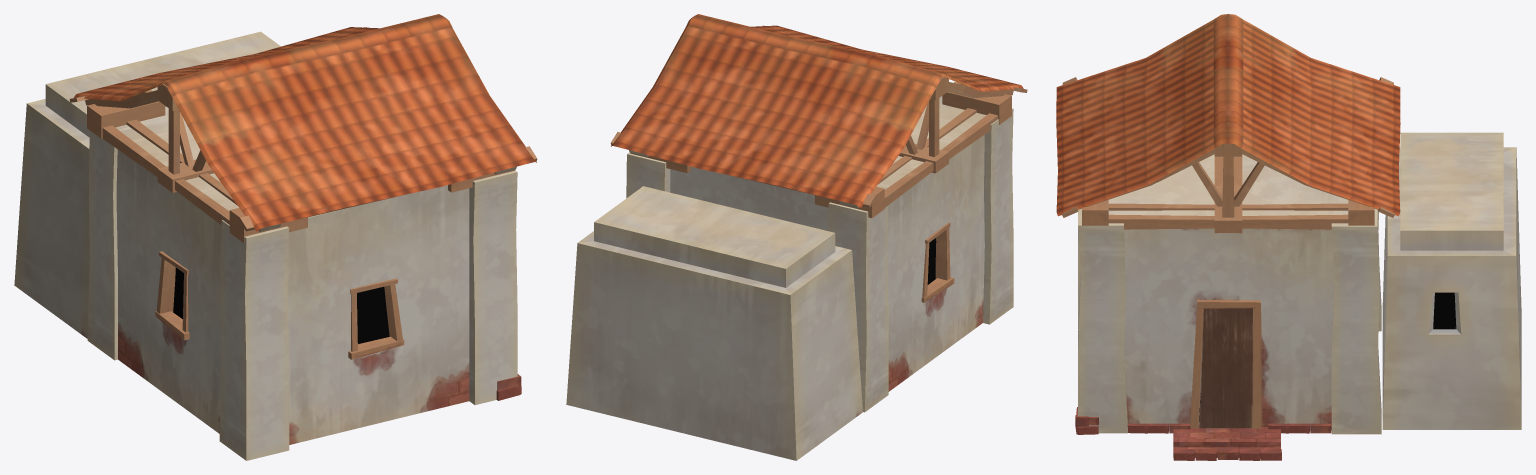
File: SM_house_1.fbx
3 views of the same model, side by side, from view 1: azimuth 30°, elevation 25°; view 2: azimuth 150°, elevation 25°; view 3: azimuth 270°, elevation 25° (orthographic). The views are drawn at different scales.
Visible parts, largest first — view 1: side17; view 2: side17; view 3: side17.
Boxes of the visible parts, bbox=[...] form: side17: bbox=[14, 14, 537, 460]; side17: bbox=[566, 14, 1027, 460]; side17: bbox=[1056, 14, 1521, 457].
Size of the model in its own units: 5.37 by 5.33 by 7.27.
